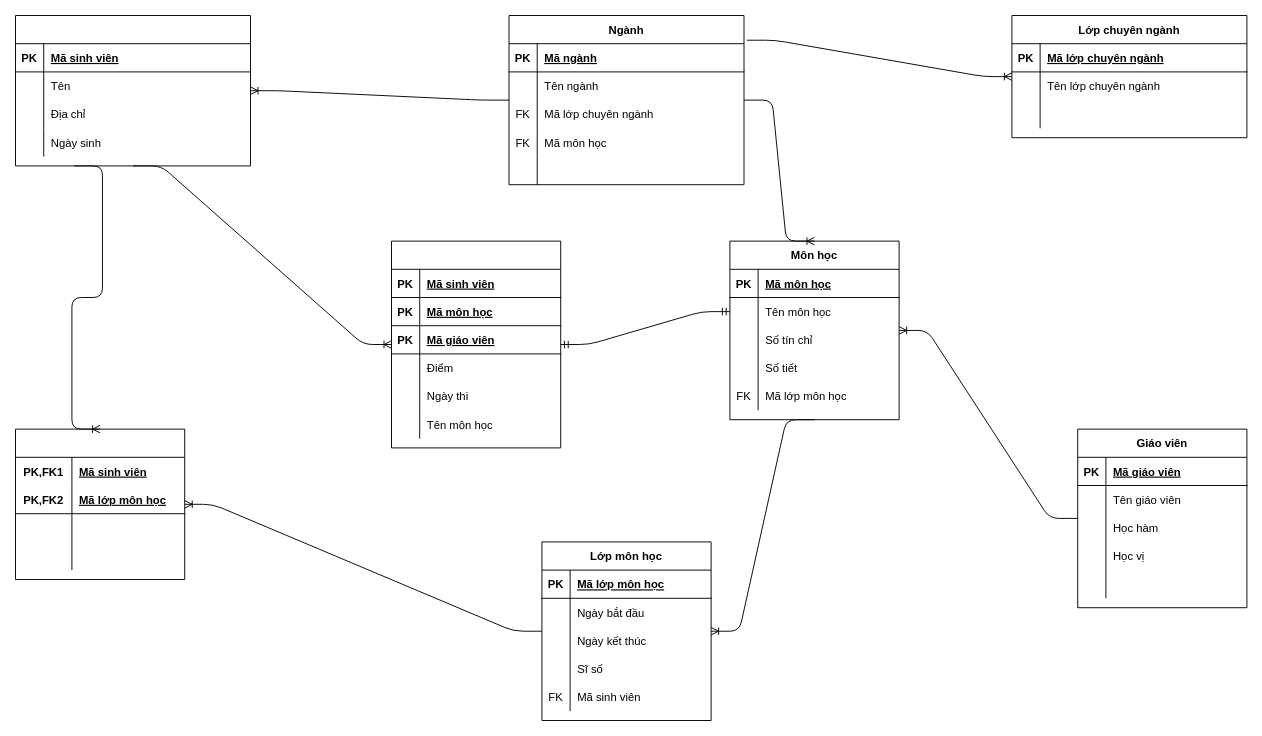
This 1262x736 diagram has some shape labels left out. The box of each missing label's shape, as (x1, y1, x2, y2) in pixels:
Ghi danh: (15, 428, 185, 580)
Hồ sơ sinh viên: (15, 15, 251, 166)
Phiếu điểm: (391, 240, 561, 448)
